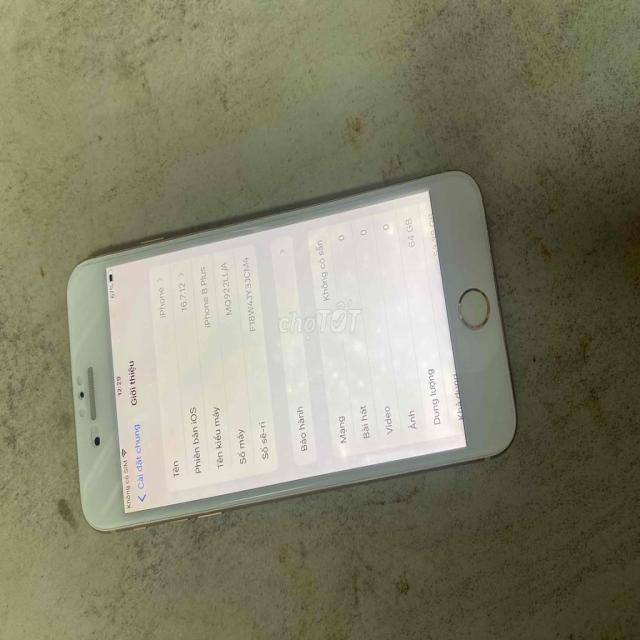gen_7_8: (41, 156, 525, 543)
